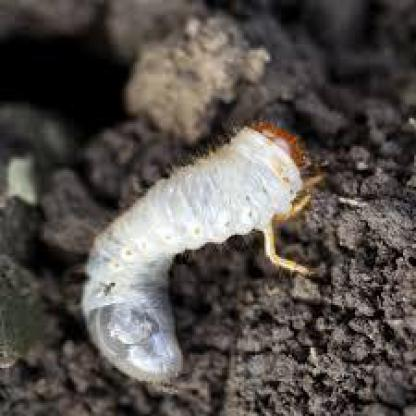root grubs: (84, 121, 319, 382)
